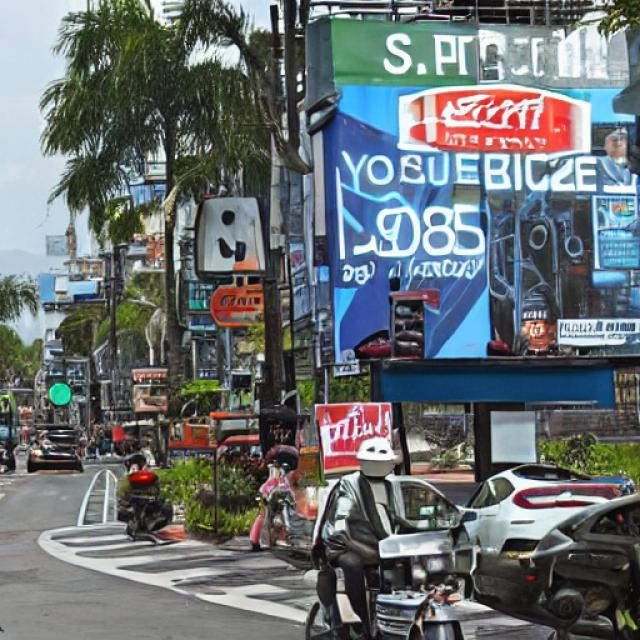Billboard: (314, 14, 640, 368)
